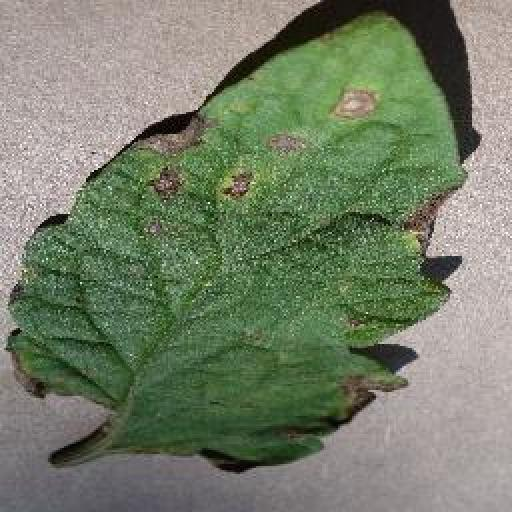disease_tomato: (11, 8, 467, 471)
